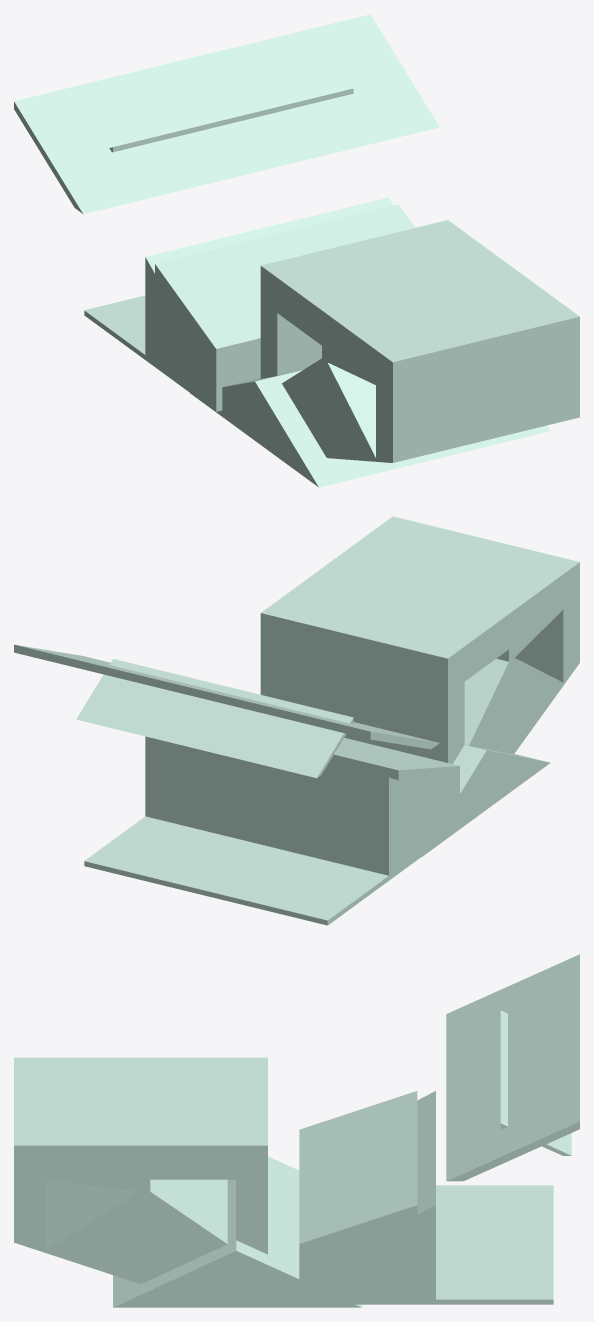
The picture shows the model from 3 angles, top to bottom: view 1: azimuth 30°, elevation 25°; view 2: azimuth 150°, elevation 25°; view 3: azimuth 270°, elevation 25°; orthographic projection. The views are drawn at different scales.
Parts seen in each view (by area): view 1: Renderer Node; view 2: Renderer Node; view 3: Renderer Node.
Part boxes in pixels (x1,y1,x2,y2): Renderer Node: [14, 14, 579, 487]; Renderer Node: [14, 516, 579, 925]; Renderer Node: [14, 954, 579, 1307].
Bounding box in the file's own units: 1.88 × 1.13 × 2.68.
